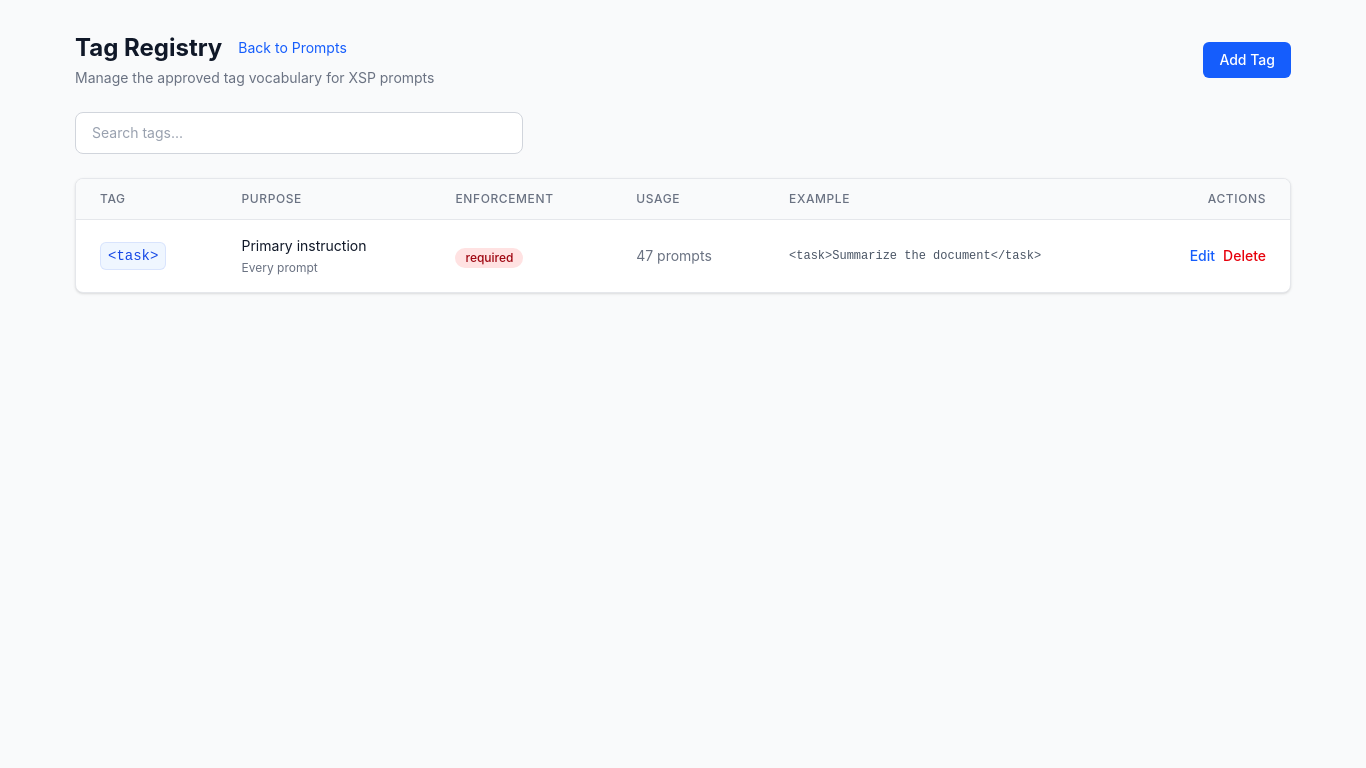
Test case: TagRegistry › opens edit modal with pre-filled data when clicking Edit
The width and height of the screenshot is (1366, 768).
Expected: the text "<task>" is shown, left=100, top=242, right=166, bottom=270
Click the button "Edit".
click(1202, 256)  # box left=1190, top=246, right=1215, bottom=266
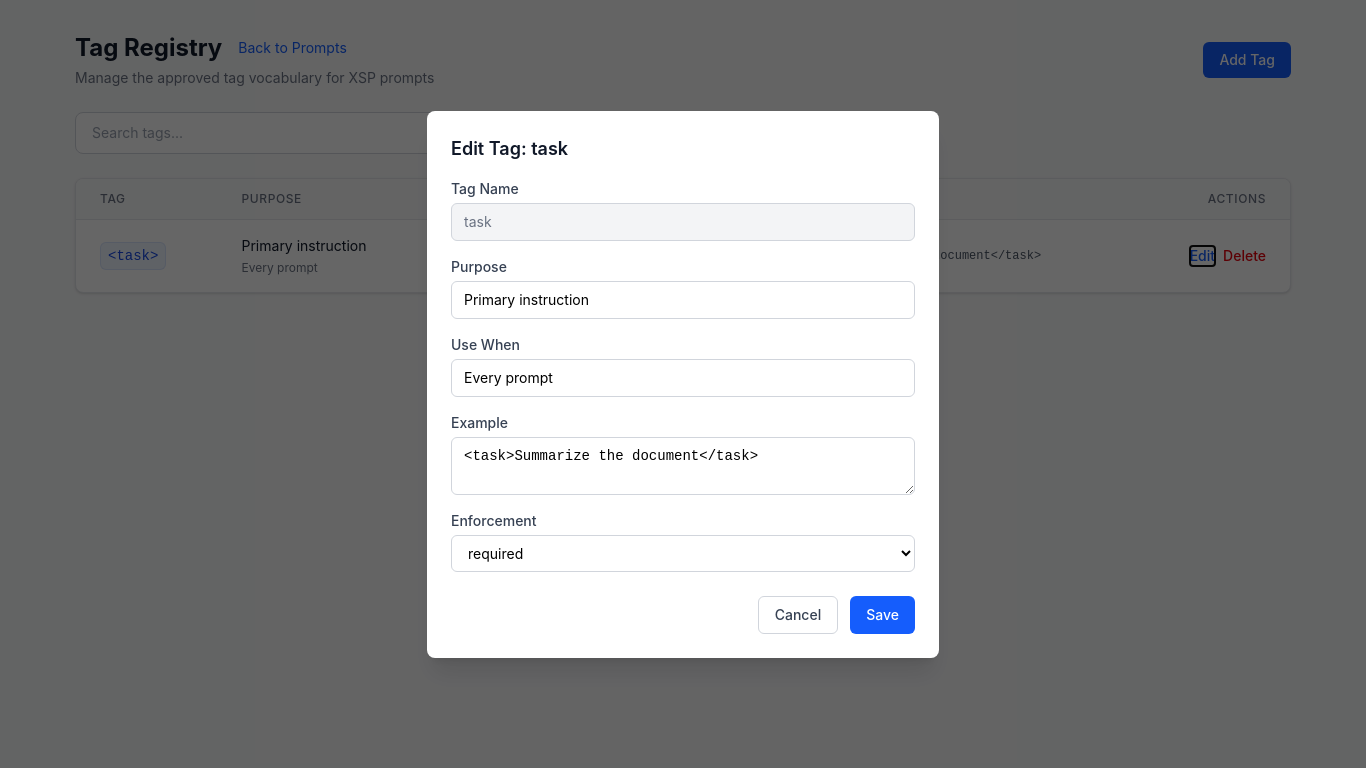
Expected: the element with test id "tag-form-modal" is shown
Expected: the heading "Edit Tag: task" is shown, left=451, top=138, right=568, bottom=158
Expected: the field labelled "Tag Name" is disabled, left=451, top=202, right=915, bottom=240
